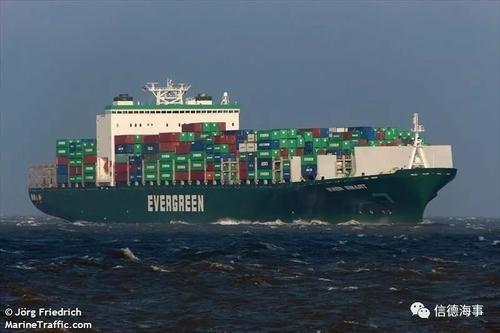Cargoship: (30, 75, 459, 233)
